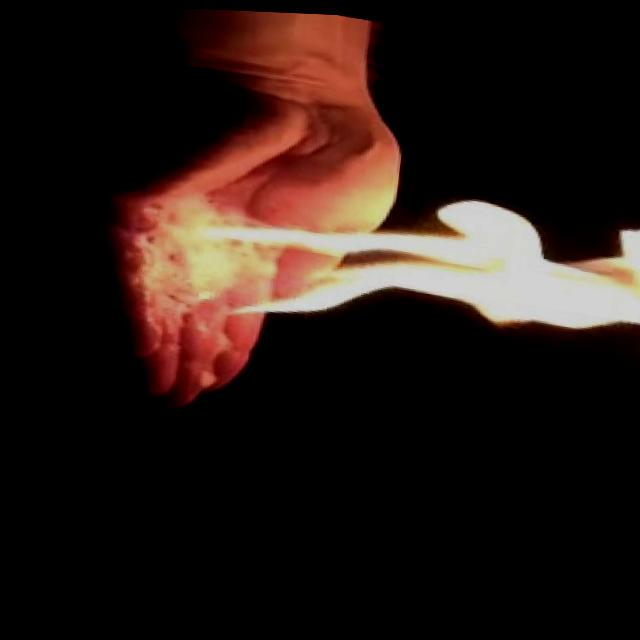Fire: (149, 132, 640, 384)
